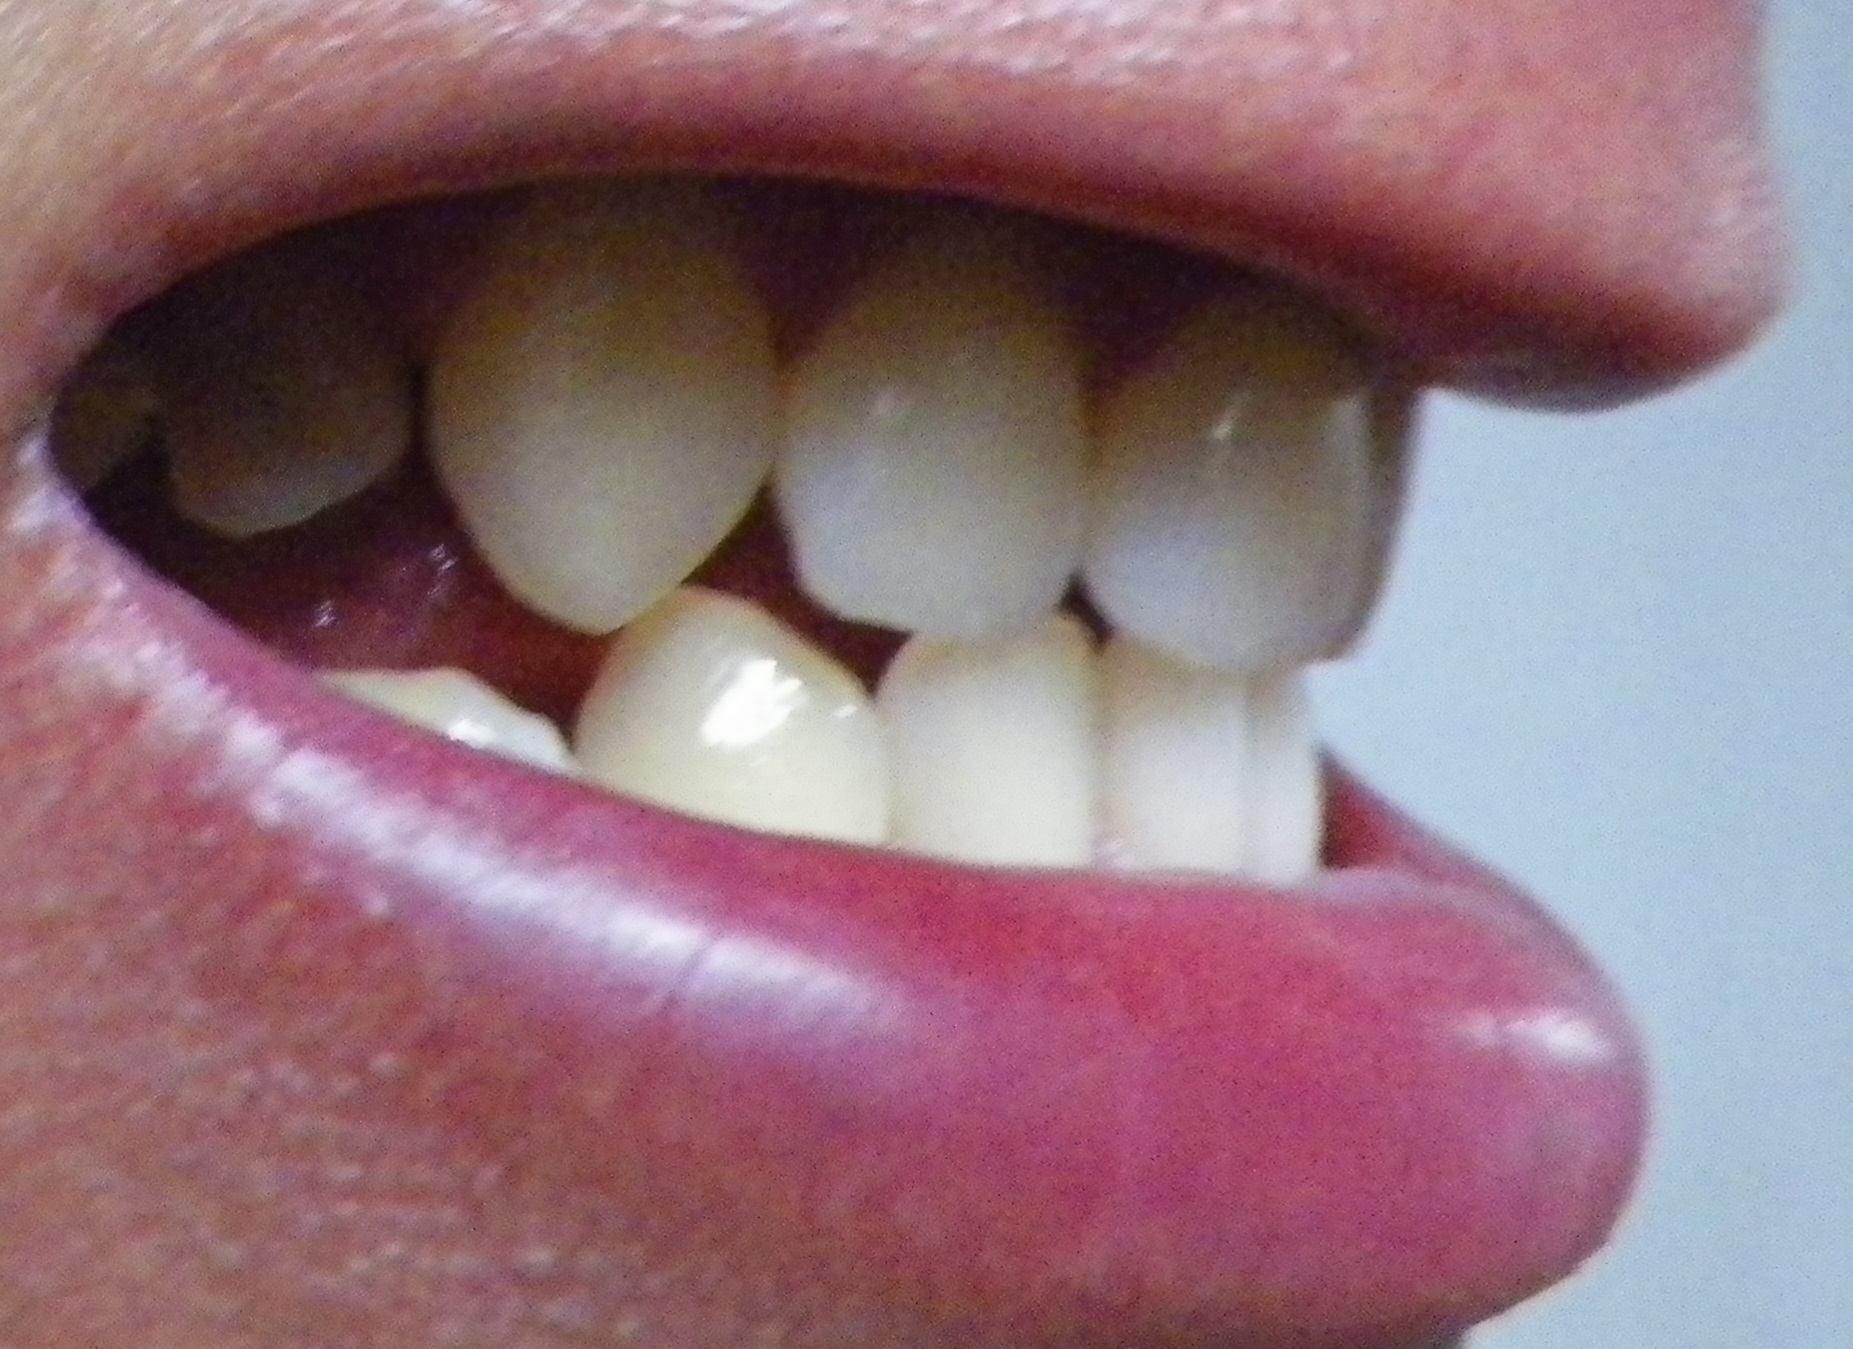boca: (183, 301, 1450, 872)
